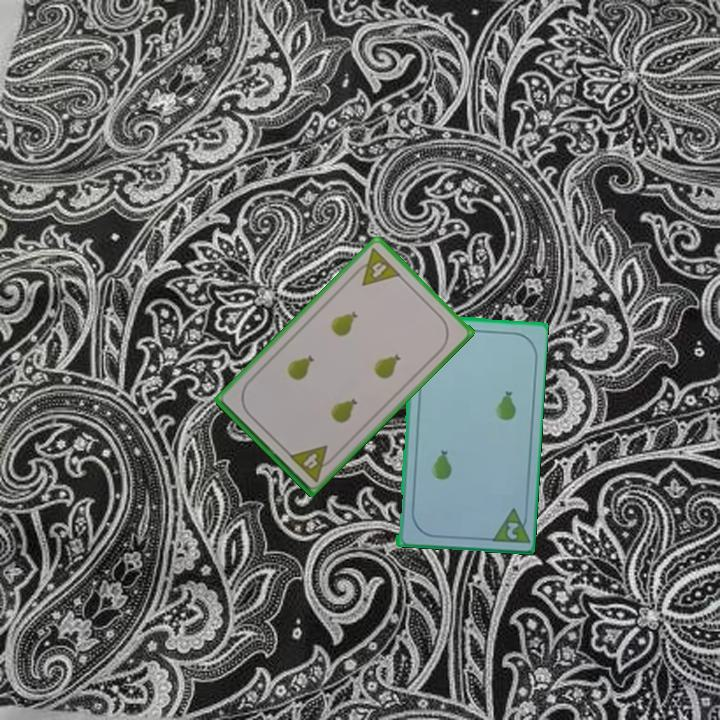2p: (486, 503, 530, 546)
4p: (349, 244, 404, 289), (285, 441, 339, 485)
